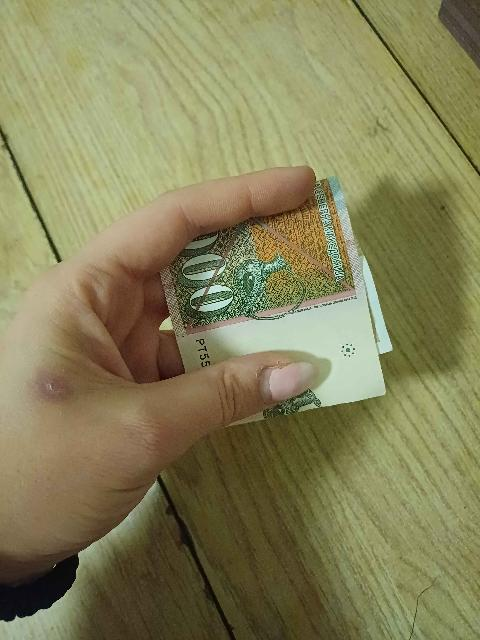note: (163, 182, 391, 432)
